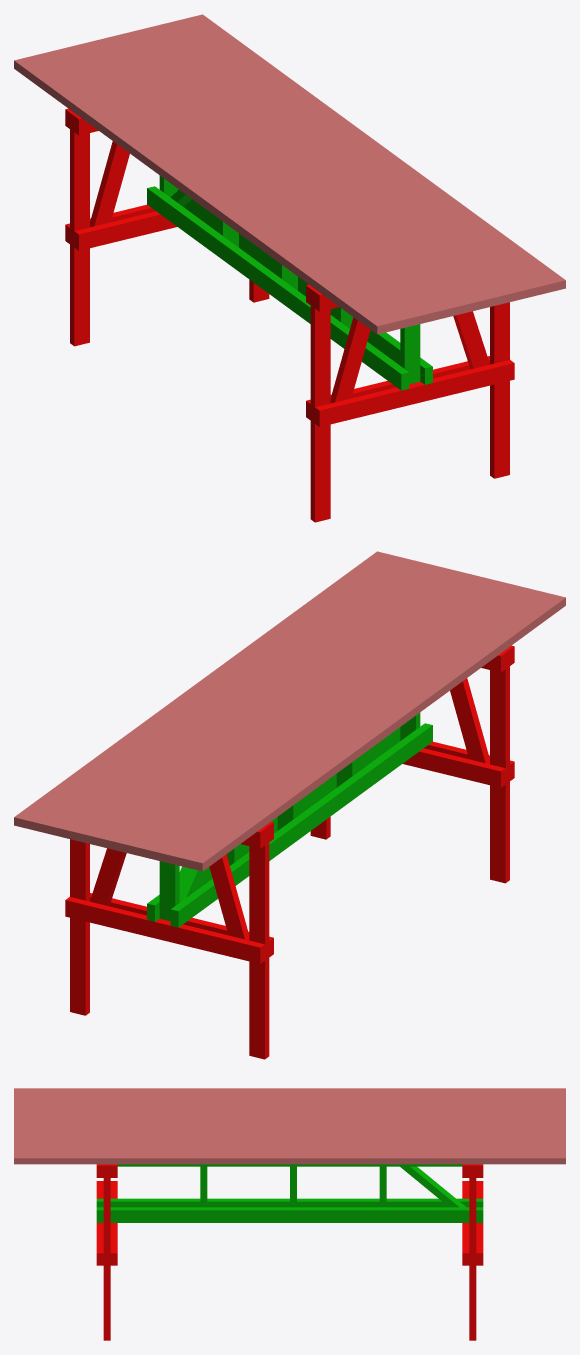
Rendered from result.glb.
The picture shows the model from 3 angles, top to bottom: view 1: azimuth 30°, elevation 25°; view 2: azimuth 150°, elevation 25°; view 3: azimuth 270°, elevation 25°; orthographic projection. The views are drawn at different scales.
Visible parts, largest first — view 1: 4016c486-d212-4971-a5bd-167a0b48a492__Box, 6a5786f4-960c-4a6d-ab10-1d3fcfd62065__undefined, 4fc18613-3e38-431c-ab89-f95f8c7d5c0b__undefined, c57dc089-8e01-4656-ae26-69433135eb0e__undefined, 56304955-c43c-4257-92a1-46a6137614cb__undefined, 441b494b-bb23-476d-aa80-d80cdd261ca0__undefined, 7befb47f-c02b-4513-8e02-4506833a78a2__undefined, 3ef0082b-f4cb-4958-bf47-518e1d38780b__undefined, e489ff03-7a63-4ff1-aabb-e99a69e6dd49__undefined, 378a6742-40e0-4956-bfd8-47d2d6c33b5c__undefined, fe767a5f-64c2-48ad-9a75-a7d8fcc0be26__undefined, 6c886d9f-fef9-49db-a989-133c1ca14e9d__undefined (+12 smaller); view 2: 4016c486-d212-4971-a5bd-167a0b48a492__Box, 6a5786f4-960c-4a6d-ab10-1d3fcfd62065__undefined, 4fc18613-3e38-431c-ab89-f95f8c7d5c0b__undefined, c57dc089-8e01-4656-ae26-69433135eb0e__undefined, 56304955-c43c-4257-92a1-46a6137614cb__undefined, 441b494b-bb23-476d-aa80-d80cdd261ca0__undefined, 7befb47f-c02b-4513-8e02-4506833a78a2__undefined, 3ef0082b-f4cb-4958-bf47-518e1d38780b__undefined, e489ff03-7a63-4ff1-aabb-e99a69e6dd49__undefined, 378a6742-40e0-4956-bfd8-47d2d6c33b5c__undefined, fe767a5f-64c2-48ad-9a75-a7d8fcc0be26__undefined, 6c886d9f-fef9-49db-a989-133c1ca14e9d__undefined (+12 smaller); view 3: 378a6742-40e0-4956-bfd8-47d2d6c33b5c__undefined, fb8022c7-2c22-44ec-937a-4232da8f0788__strutH, fe767a5f-64c2-48ad-9a75-a7d8fcc0be26__undefined, 441b494b-bb23-476d-aa80-d80cdd261ca0__undefined, 6c886d9f-fef9-49db-a989-133c1ca14e9d__undefined, 6a5786f4-960c-4a6d-ab10-1d3fcfd62065__undefined, 4fc18613-3e38-431c-ab89-f95f8c7d5c0b__undefined, eb06b85a-29e7-4e08-aa7d-2856fd75da87__strutH, 4016c486-d212-4971-a5bd-167a0b48a492__Box, 7befb47f-c02b-4513-8e02-4506833a78a2__undefined, c57dc089-8e01-4656-ae26-69433135eb0e__undefined, 56304955-c43c-4257-92a1-46a6137614cb__undefined (+12 smaller).
Part boxes in pixels (bbox=[...]): 4016c486-d212-4971-a5bd-167a0b48a492__Box: bbox=[14, 56, 392, 334]; 6a5786f4-960c-4a6d-ab10-1d3fcfd62065__undefined: bbox=[156, 22, 534, 299]; 4fc18613-3e38-431c-ab89-f95f8c7d5c0b__undefined: bbox=[171, 18, 550, 295]; c57dc089-8e01-4656-ae26-69433135eb0e__undefined: bbox=[46, 49, 424, 326]; 56304955-c43c-4257-92a1-46a6137614cb__undefined: bbox=[108, 33, 487, 311]; 441b494b-bb23-476d-aa80-d80cdd261ca0__undefined: bbox=[77, 41, 455, 318]; 7befb47f-c02b-4513-8e02-4506833a78a2__undefined: bbox=[30, 53, 408, 330]; 3ef0082b-f4cb-4958-bf47-518e1d38780b__undefined: bbox=[124, 30, 502, 307]; e489ff03-7a63-4ff1-aabb-e99a69e6dd49__undefined: bbox=[140, 26, 518, 303]; 378a6742-40e0-4956-bfd8-47d2d6c33b5c__undefined: bbox=[187, 14, 565, 292]; fe767a5f-64c2-48ad-9a75-a7d8fcc0be26__undefined: bbox=[61, 45, 439, 322]; 6c886d9f-fef9-49db-a989-133c1ca14e9d__undefined: bbox=[93, 37, 471, 315]; 4016c486-d212-4971-a5bd-167a0b48a492__Box: bbox=[187, 593, 565, 871]; 6a5786f4-960c-4a6d-ab10-1d3fcfd62065__undefined: bbox=[45, 559, 423, 836]; 4fc18613-3e38-431c-ab89-f95f8c7d5c0b__undefined: bbox=[29, 555, 408, 832]; c57dc089-8e01-4656-ae26-69433135eb0e__undefined: bbox=[155, 586, 533, 863]; 56304955-c43c-4257-92a1-46a6137614cb__undefined: bbox=[92, 570, 471, 848]; 441b494b-bb23-476d-aa80-d80cdd261ca0__undefined: bbox=[124, 578, 502, 855]; 7befb47f-c02b-4513-8e02-4506833a78a2__undefined: bbox=[171, 590, 549, 867]; 3ef0082b-f4cb-4958-bf47-518e1d38780b__undefined: bbox=[77, 567, 455, 844]; e489ff03-7a63-4ff1-aabb-e99a69e6dd49__undefined: bbox=[61, 563, 439, 840]; 378a6742-40e0-4956-bfd8-47d2d6c33b5c__undefined: bbox=[14, 551, 392, 829]; fe767a5f-64c2-48ad-9a75-a7d8fcc0be26__undefined: bbox=[140, 582, 518, 859]; 6c886d9f-fef9-49db-a989-133c1ca14e9d__undefined: bbox=[108, 574, 486, 852]; 378a6742-40e0-4956-bfd8-47d2d6c33b5c__undefined: bbox=[14, 1152, 565, 1164]; fb8022c7-2c22-44ec-937a-4232da8f0788__strutH: bbox=[96, 1207, 483, 1222]; fe767a5f-64c2-48ad-9a75-a7d8fcc0be26__undefined: bbox=[14, 1105, 565, 1111]; 441b494b-bb23-476d-aa80-d80cdd261ca0__undefined: bbox=[14, 1111, 565, 1117]; 6c886d9f-fef9-49db-a989-133c1ca14e9d__undefined: bbox=[14, 1117, 565, 1123]; 6a5786f4-960c-4a6d-ab10-1d3fcfd62065__undefined: bbox=[14, 1140, 565, 1146]; 4fc18613-3e38-431c-ab89-f95f8c7d5c0b__undefined: bbox=[14, 1146, 565, 1152]; eb06b85a-29e7-4e08-aa7d-2856fd75da87__strutH: bbox=[96, 1198, 483, 1207]; 4016c486-d212-4971-a5bd-167a0b48a492__Box: bbox=[14, 1088, 565, 1093]; 7befb47f-c02b-4513-8e02-4506833a78a2__undefined: bbox=[14, 1094, 565, 1099]; c57dc089-8e01-4656-ae26-69433135eb0e__undefined: bbox=[14, 1100, 565, 1105]; 56304955-c43c-4257-92a1-46a6137614cb__undefined: bbox=[14, 1123, 565, 1128].
Size of the model in its own units: 620 by 725 by 2000.
